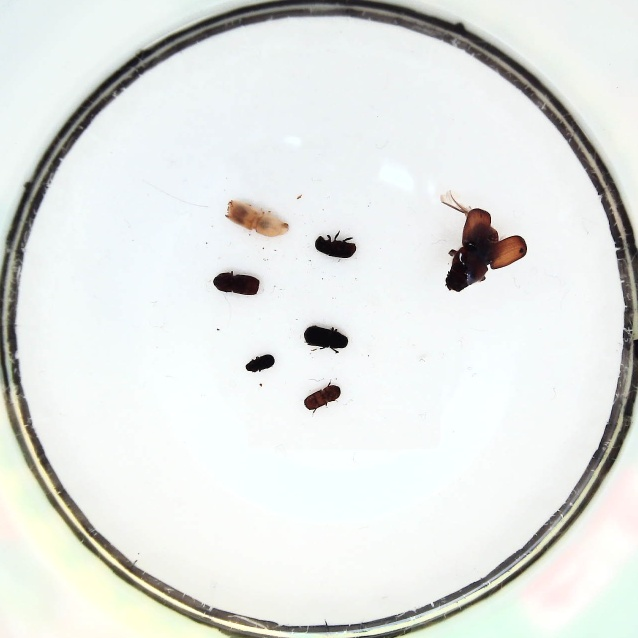acuminatus: (301, 382, 342, 410)
armandi: (302, 323, 352, 352), (313, 234, 358, 259)
boerner: (225, 199, 292, 237)
coleoptera: (245, 353, 276, 372)
leconte: (442, 206, 527, 294)
linnaeus: (212, 271, 261, 297)
